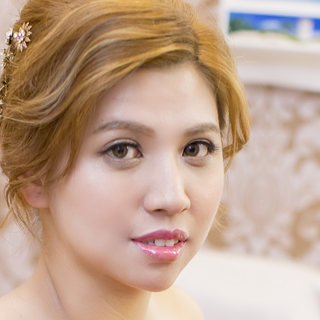eye: (97, 138, 146, 164), (175, 136, 219, 163)
